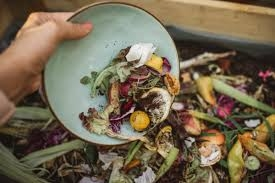kitchen_waste: (209, 71, 275, 114), (79, 106, 148, 144), (83, 59, 140, 99), (191, 125, 228, 169), (139, 86, 177, 123), (236, 132, 275, 166), (191, 75, 225, 106), (150, 127, 183, 158), (123, 39, 156, 66), (127, 110, 156, 128), (241, 155, 263, 173)
